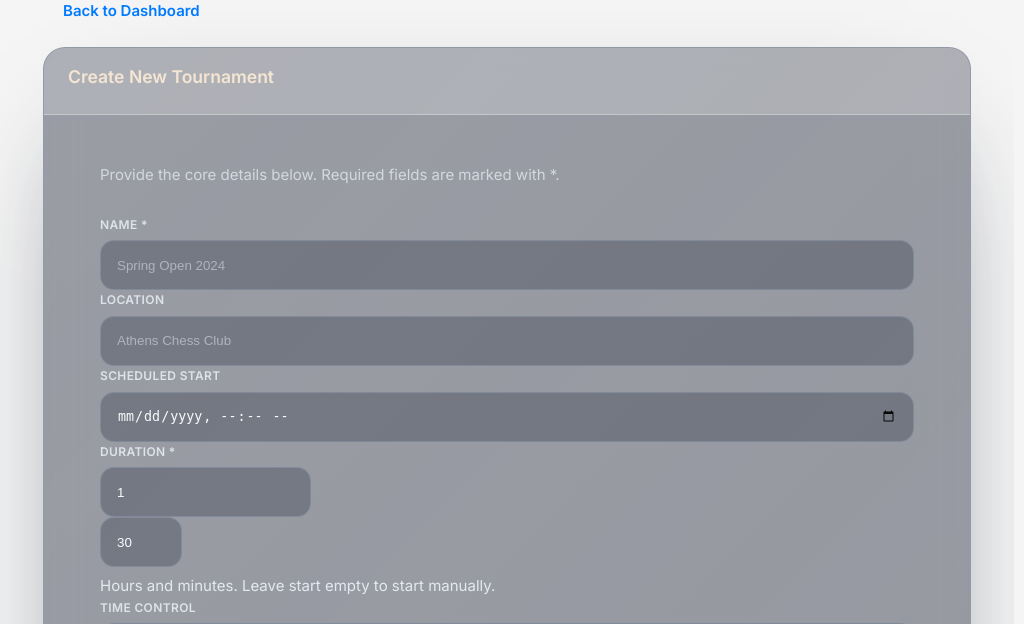
Test: a creation error is announced and focused even when submitted from the bottom
Step 1. Type "Arena" into the field with placeholder "Spring Open 2024" → (507, 265), box [100,240,914,290]
(page scrolled)
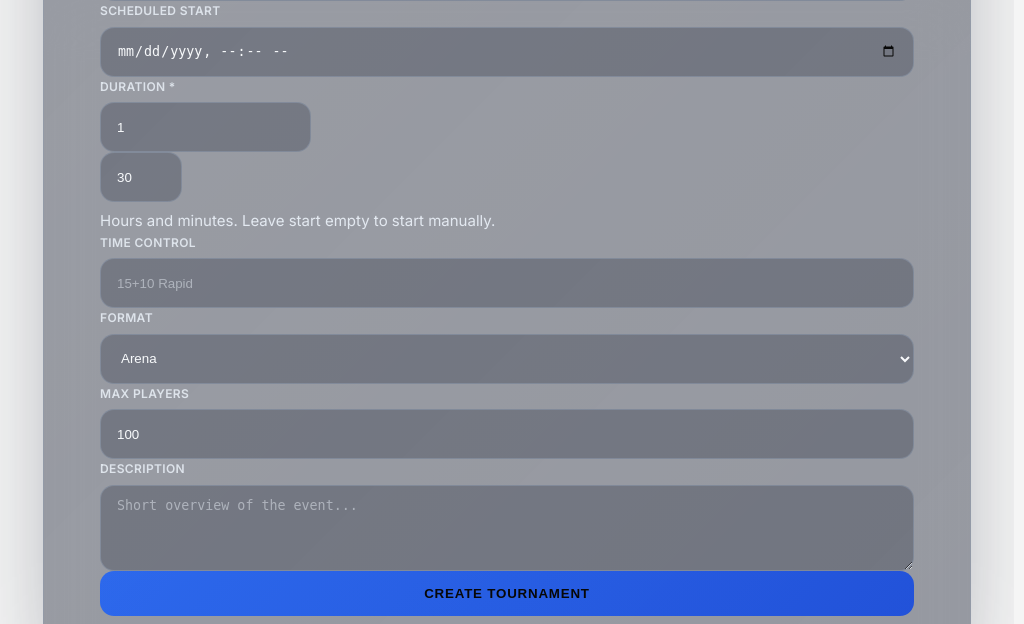
Step 2. Click the button "Create Tournament" → click(507, 594), box [100,571,914,616]
(page scrolled)
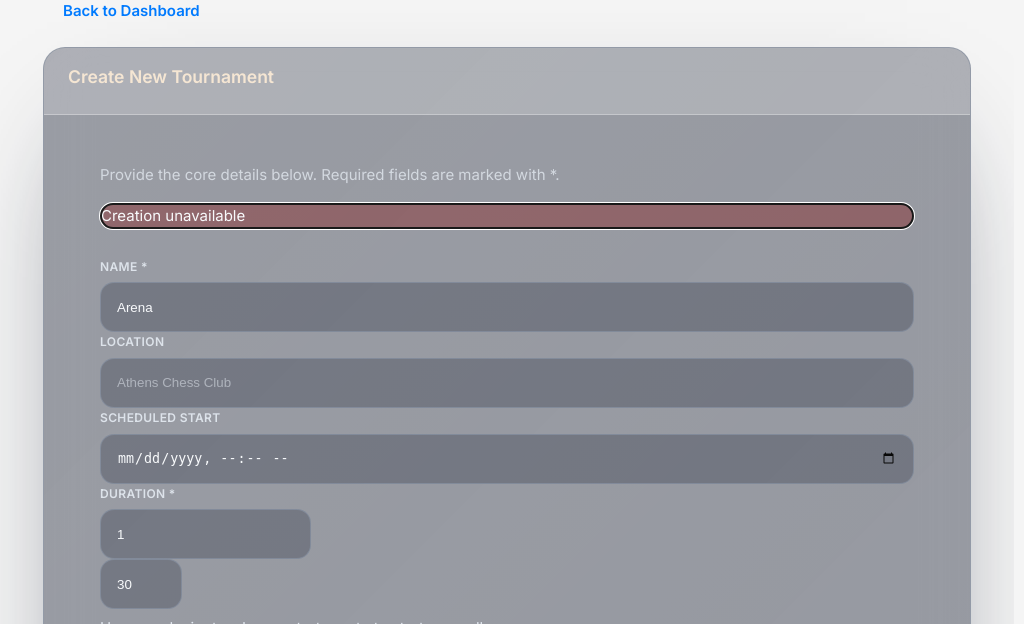
Expected: the message reads "Creation unavailable", [101,206,245,225]
